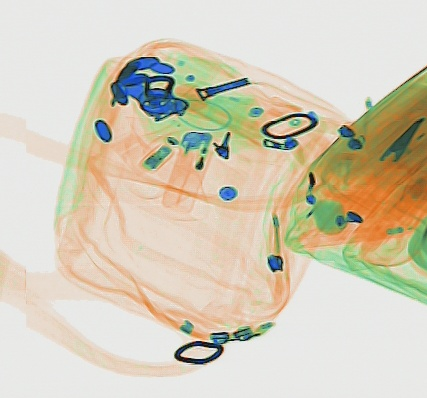lighter: (159, 127, 213, 215)
scissors: (345, 114, 425, 204)
